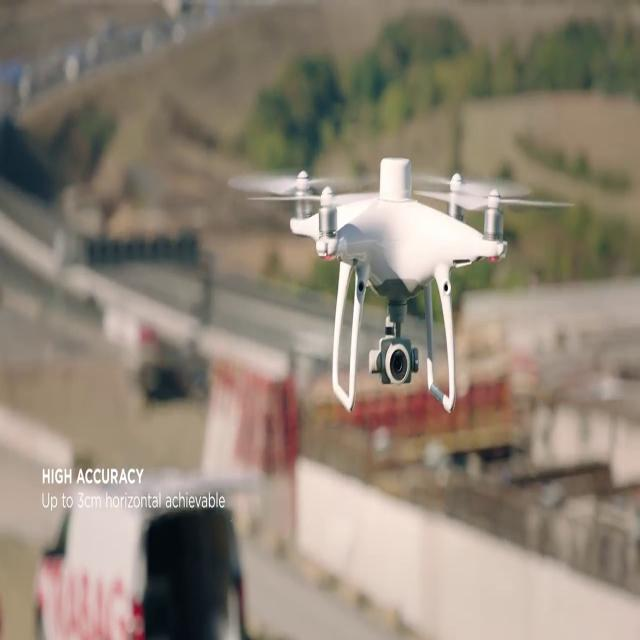drone: (227, 150, 576, 420)
